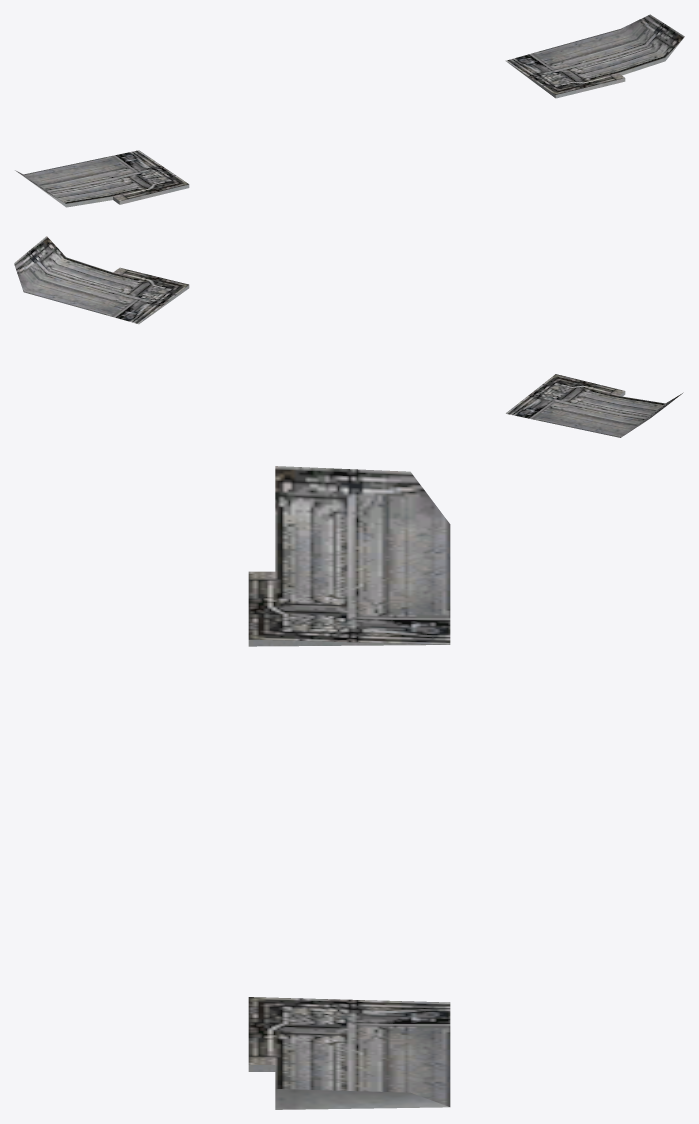
The model's file is lambda_geardoor_b_l2.fbx.
3 views of the same model, one above another, from view 1: azimuth 30°, elevation 25°; view 2: azimuth 150°, elevation 25°; view 3: azimuth 270°, elevation 25° (orthographic). The views are drawn at different scales.
Parts seen in each view (by area): view 1: mesh_node; view 2: mesh_node; view 3: mesh_node.
Boxes of the visible parts, box(x1,y1,x2,y2) form: mesh_node: box(15, 14, 684, 207); mesh_node: box(14, 236, 683, 437); mesh_node: box(248, 466, 450, 1109).
Size of the model in its own units: 13.68 by 0.4898 by 1.88.
